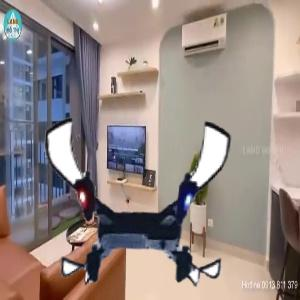drone: (40, 105, 231, 296)
